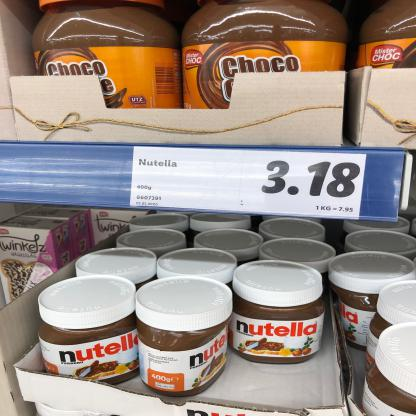prtg: (131, 147, 368, 221)
